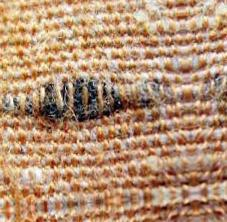slub: (1, 76, 153, 124)
